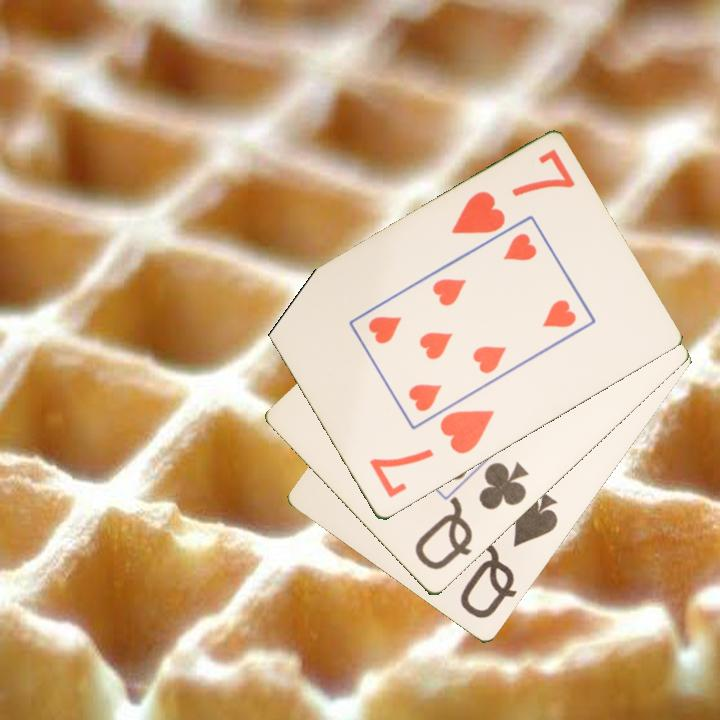7h: (365, 406, 497, 502), (447, 146, 578, 238)
Qc: (411, 458, 532, 574)
Qs: (456, 489, 562, 623)
